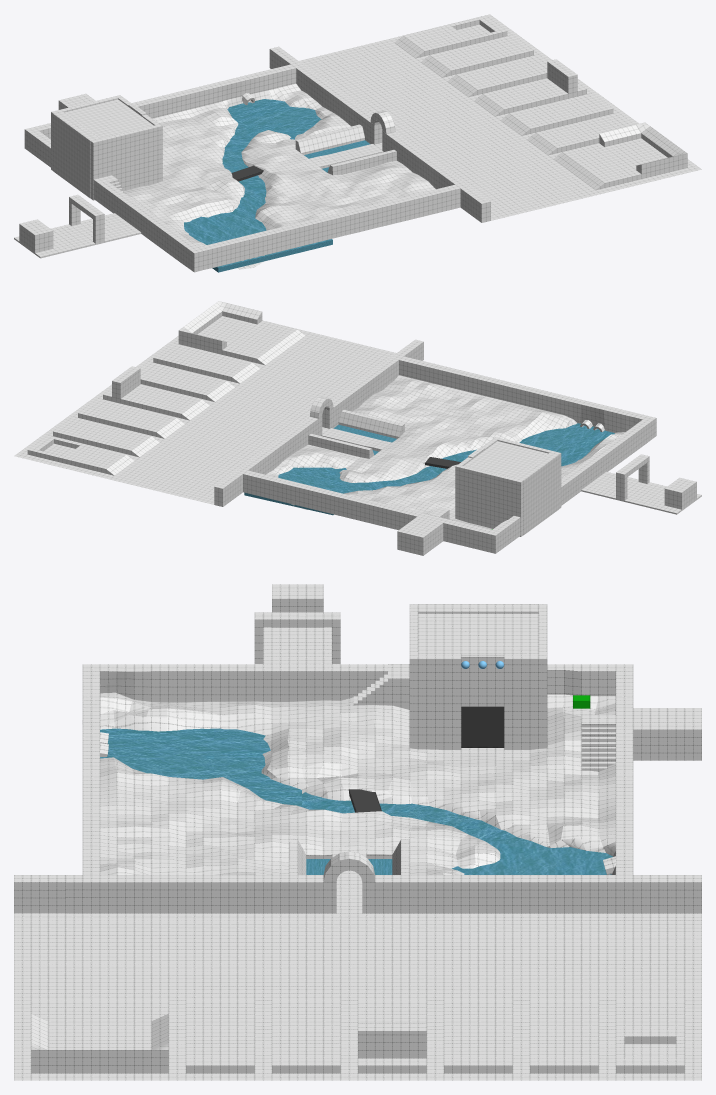
The model's file is ExampleStage.glb.
3 renders of one model, top to bottom at view 1: azimuth 30°, elevation 25°; view 2: azimuth 150°, elevation 25°; view 3: azimuth 270°, elevation 25°, orthographic. The views are drawn at different scales.
Parts seen in each view (by area): view 1: Level, Block 1x1y1z.005, Cube.013, Block 1x1y1z.001, Cube.015, Block 1x1y1z.006, Cube.014, Block 1x1y1z; view 2: Level, Block 1x1y1z, Block 1x1y1z.001, Cube.013, Block 1x1y1z.006, Cube.015, Cube.014, Block 1x1y1z.005; view 3: Level, Cube.013, Block 1x1y1z.006, Block 1x1y1z.002, Cube.015, Block 1x1y1z.003, Cube.014, Block 1x1y1z.004, Stairs.001, Cube.001, Stairs, Block 1x1y1z.005 (+3 smaller).
Boxes of the visible parts, x1,y1,x2,y2 form: Level: (14, 14, 701, 272); Block 1x1y1z.005: (90, 124, 162, 200); Cube.013: (184, 191, 332, 272); Block 1x1y1z.001: (53, 111, 99, 198); Cube.015: (227, 99, 321, 138); Block 1x1y1z.006: (64, 99, 153, 138); Cube.014: (222, 129, 304, 196); Block 1x1y1z: (51, 95, 122, 170); Level: (14, 301, 701, 555); Block 1x1y1z: (455, 464, 523, 536); Block 1x1y1z.001: (515, 453, 558, 534); Cube.013: (461, 423, 614, 466); Block 1x1y1z.006: (464, 441, 548, 478); Cube.015: (244, 467, 359, 515); Cube.014: (324, 450, 472, 491); Block 1x1y1z.005: (493, 437, 561, 508); Level: (14, 584, 701, 1080); Cube.013: (100, 728, 301, 806); Block 1x1y1z.006: (418, 613, 538, 655); Block 1x1y1z.002: (418, 655, 461, 749); Cube.015: (468, 841, 612, 874); Block 1x1y1z.003: (504, 655, 538, 749); Cube.014: (302, 792, 529, 874); Block 1x1y1z.004: (461, 654, 504, 706); Stairs.001: (581, 715, 615, 771); Cube.001: (461, 706, 504, 747); Stairs: (353, 664, 409, 709); Block 1x1y1z.005: (409, 604, 418, 749).
Bounding box in the file's own units: 128 × 15.32 × 80.
6 materials, 5 textured.
